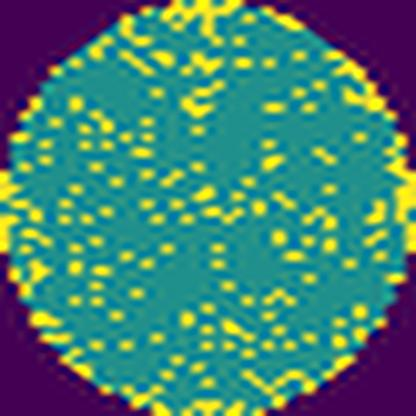Edge-Loc: (387, 150, 415, 252)
